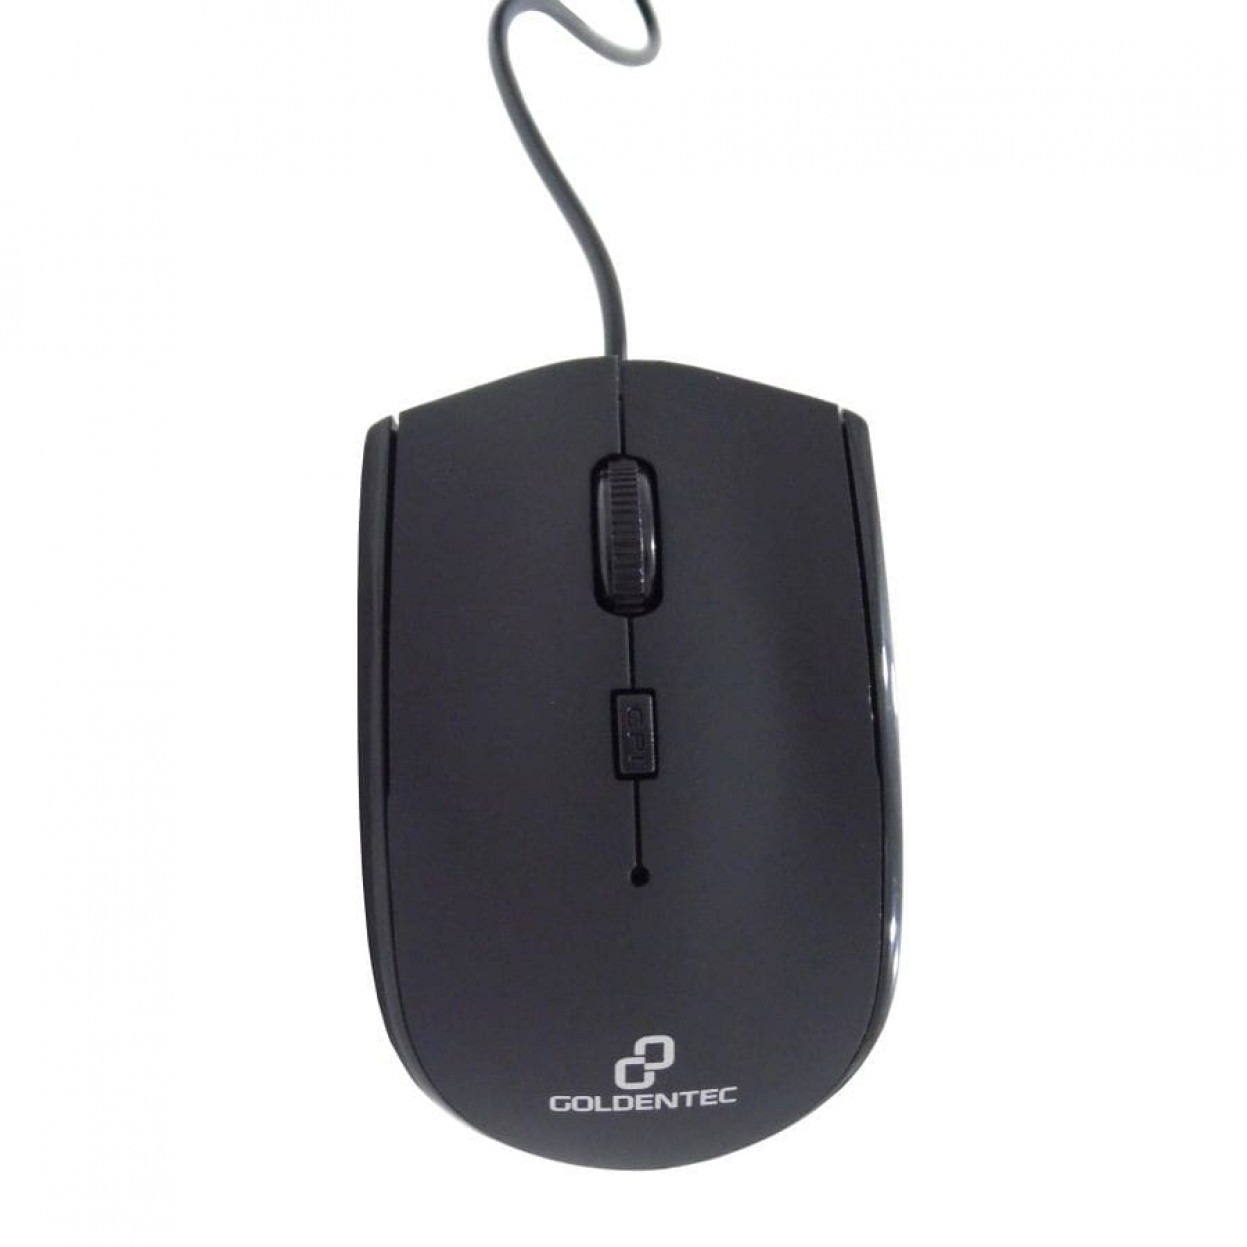mouse: (332, 343, 912, 1191)
